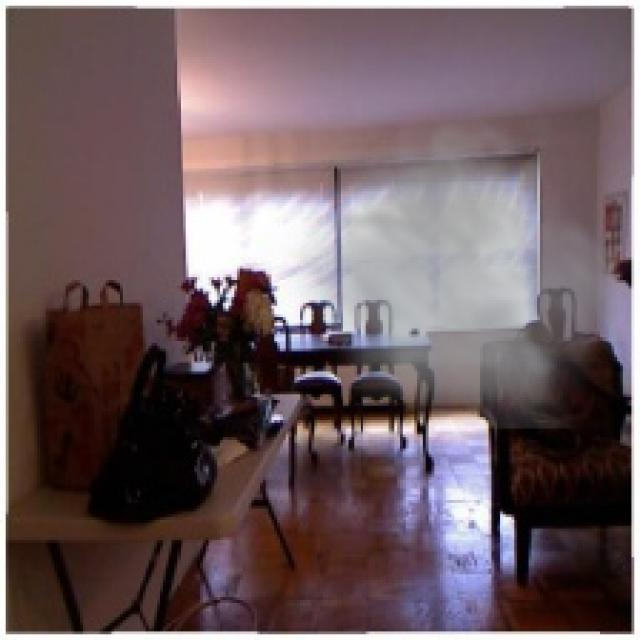smoke: (280, 83, 637, 431)
